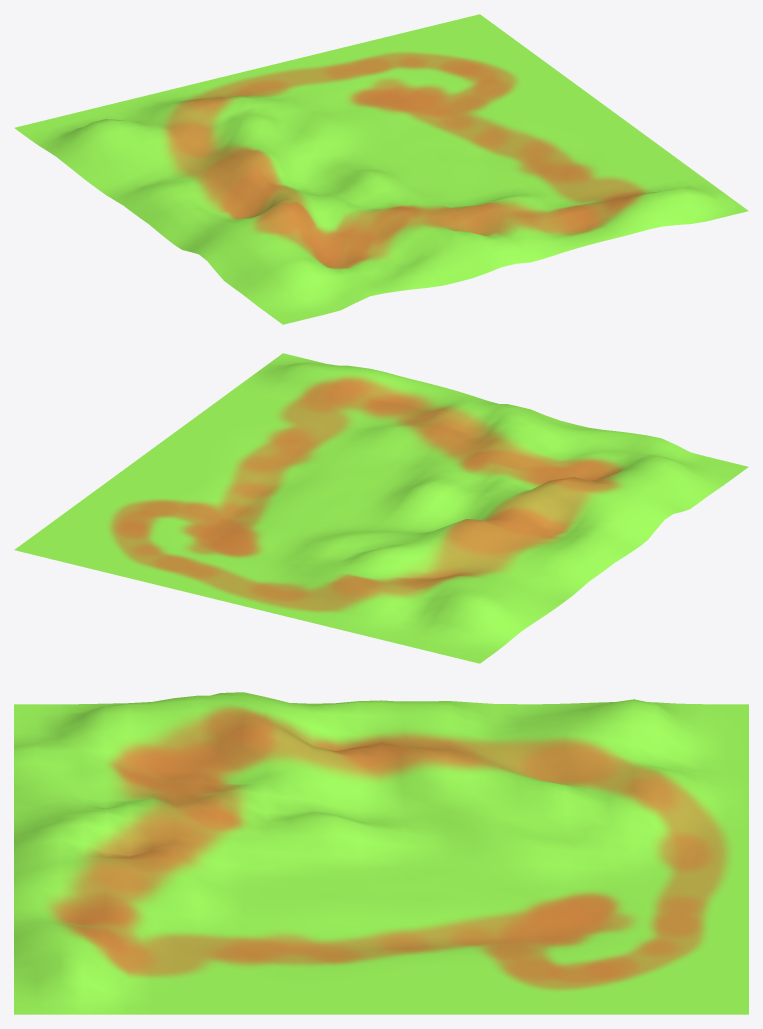
Rendered from terrain.fbx.
3 views of the same model, one above another, from view 1: azimuth 30°, elevation 25°; view 2: azimuth 150°, elevation 25°; view 3: azimuth 270°, elevation 25° (orthographic). The views are drawn at different scales.
Visible parts, largest first — view 1: Plane; view 2: Plane; view 3: Plane.
Boxes of the visible parts, x1,y1,x2,y2 form: Plane: (14,14,748,324); Plane: (14,353,748,663); Plane: (14,692,748,1014).
Bounding box in the file's own units: 13.92 × 1.05 × 13.92.
1 material, 1 textured.
